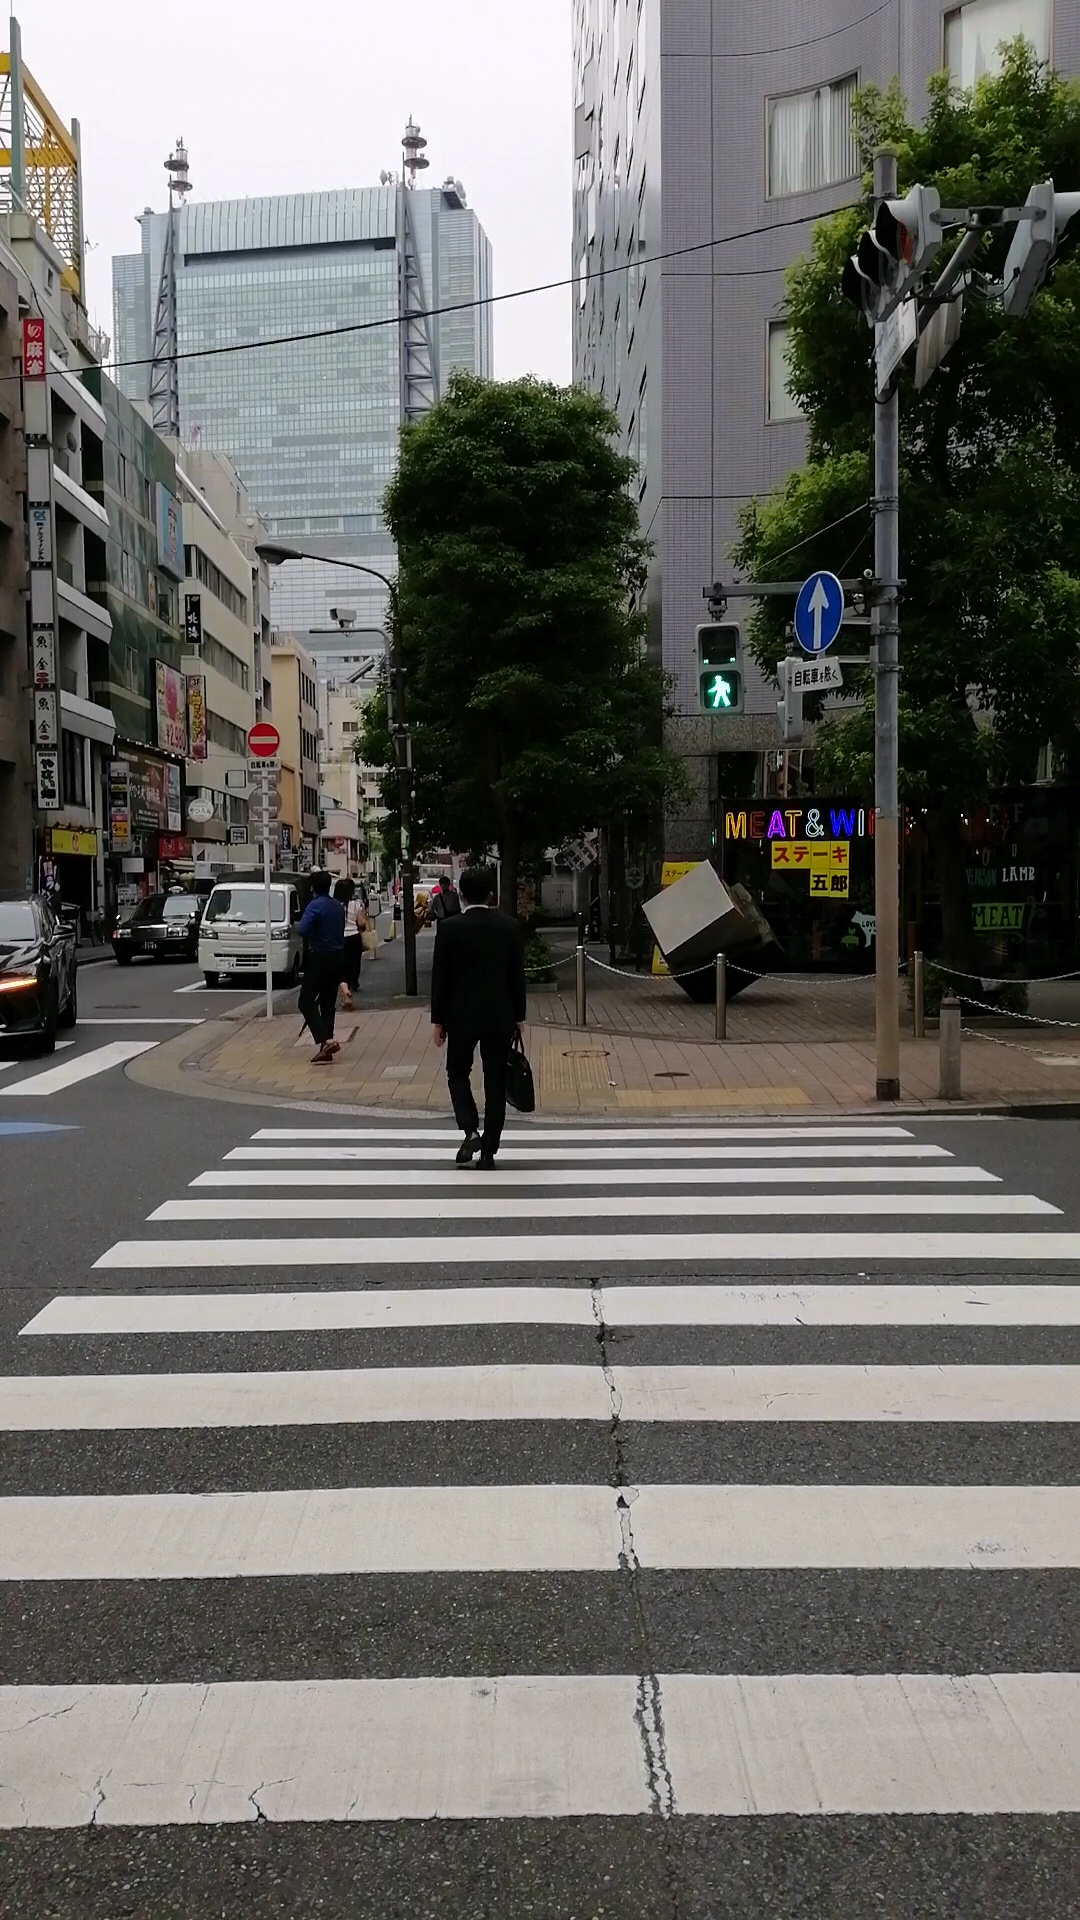green: (696, 620, 742, 713)
